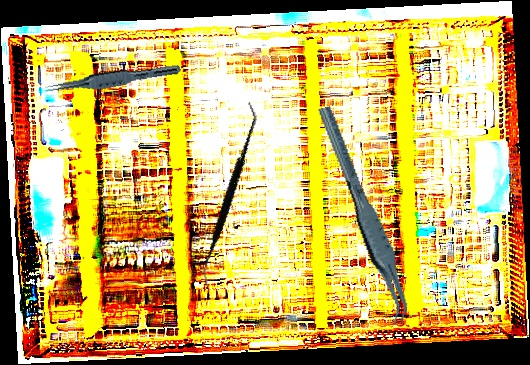Spatula Surgical: (161, 101, 296, 288)
Tissue Forceps: (317, 99, 413, 331), (43, 57, 182, 100)
